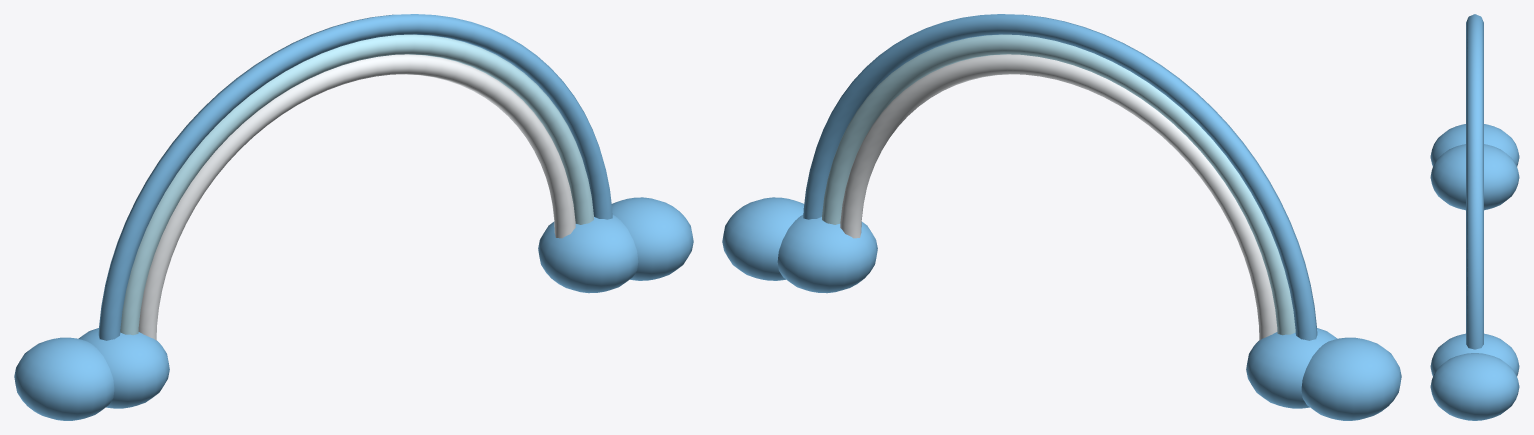
The model's file is st_snow_gate.glb.
3 views of the same model, side by side, from view 1: azimuth 30°, elevation 25°; view 2: azimuth 150°, elevation 25°; view 3: azimuth 270°, elevation 25° (orthographic). The views are drawn at different scales.
Visible parts, largest first — view 1: Rainbow_Gate; view 2: Rainbow_Gate; view 3: Rainbow_Gate.
Boxes of the visible parts, <box> form: Rainbow_Gate: <box>14,14,693,420</box>; Rainbow_Gate: <box>722,14,1401,420</box>; Rainbow_Gate: <box>1430,14,1519,420</box>.
Size of the model in its own units: 3.96 by 1.84 by 0.56.
